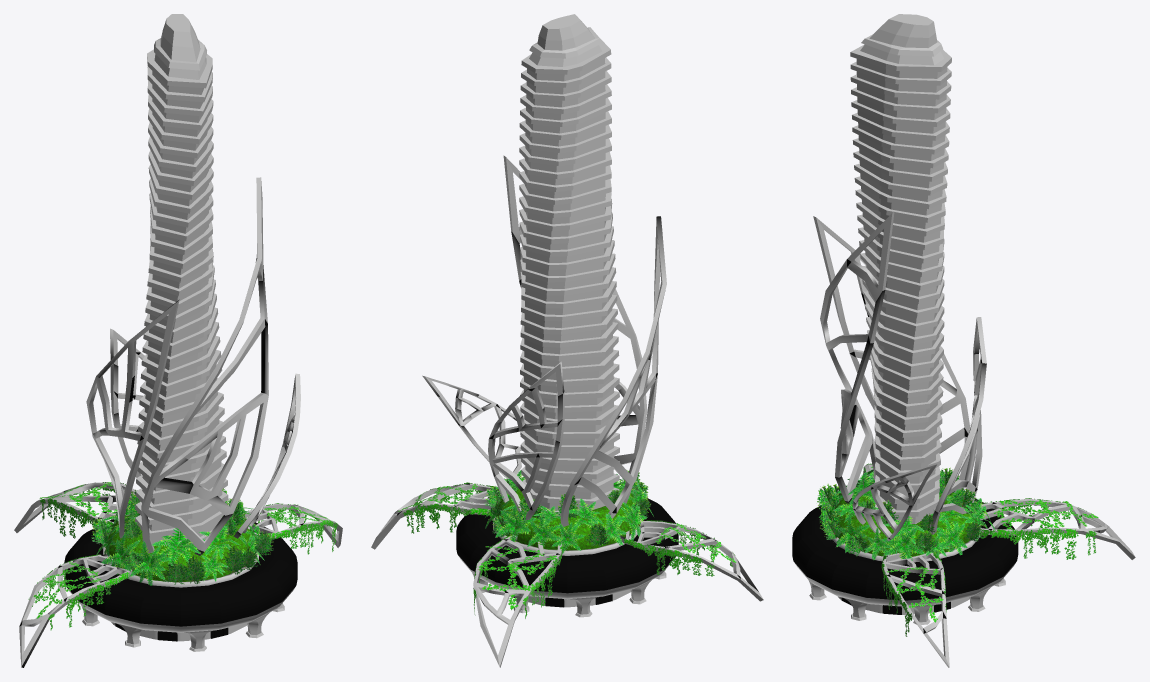
The model's file is SM_GlassTower.fbx.
The picture shows the model from 3 angles, left to right: view 1: azimuth 30°, elevation 25°; view 2: azimuth 150°, elevation 25°; view 3: azimuth 270°, elevation 25°; orthographic projection. The views are drawn at different scales.
Visible parts, largest first — view 1: GlassTower_Tower_LOD0, GlassTower_Leaves_LOD0, GlassTower_Dome_Hex_CutOut_LOD0, GlassTower_Ivy_LOD0, GlassTower_Fern_LOD0, GlassTower_Bush_LOD0, GlassTower_Base_Vegetation_LOD0, GlassTower_Dome_Base_LOD0, GlassTower_Columns_LOD0, GlassTower_Dome_Top_LOD0; view 2: GlassTower_Tower_LOD0, GlassTower_Leaves_LOD0, GlassTower_Dome_Hex_CutOut_LOD0, GlassTower_Ivy_LOD0, GlassTower_Fern_LOD0, GlassTower_Base_Vegetation_LOD0, GlassTower_Bush_LOD0, GlassTower_Dome_Base_LOD0, GlassTower_Columns_LOD0, GlassTower_Dome_Top_LOD0; view 3: GlassTower_Tower_LOD0, GlassTower_Leaves_LOD0, GlassTower_Dome_Hex_CutOut_LOD0, GlassTower_Fern_LOD0, GlassTower_Ivy_LOD0, GlassTower_Bush_LOD0, GlassTower_Base_Vegetation_LOD0, GlassTower_Columns_LOD0, GlassTower_Dome_Base_LOD0.
Boxes of the visible parts, box(x1,y1,x2,y2) form: GlassTower_Tower_LOD0: box(135, 14, 228, 544); GlassTower_Leaves_LOD0: box(14, 177, 342, 667); GlassTower_Dome_Hex_CutOut_LOD0: box(64, 519, 297, 626); GlassTower_Ivy_LOD0: box(28, 482, 337, 630); GlassTower_Fern_LOD0: box(96, 503, 264, 585); GlassTower_Bush_LOD0: box(91, 488, 274, 584); GlassTower_Base_Vegetation_LOD0: box(105, 515, 255, 582); GlassTower_Dome_Base_LOD0: box(67, 586, 295, 632); GlassTower_Columns_LOD0: box(81, 603, 284, 651); GlassTower_Dome_Top_LOD0: box(103, 543, 258, 587); GlassTower_Tower_LOD0: box(519, 14, 619, 515); GlassTower_Leaves_LOD0: box(371, 155, 763, 667); GlassTower_Dome_Hex_CutOut_LOD0: box(456, 497, 678, 593); GlassTower_Ivy_LOD0: box(397, 482, 736, 618); GlassTower_Fern_LOD0: box(485, 470, 653, 553); GlassTower_Base_Vegetation_LOD0: box(498, 486, 638, 550); GlassTower_Bush_LOD0: box(484, 470, 650, 546); GlassTower_Dome_Base_LOD0: box(458, 555, 675, 599); GlassTower_Columns_LOD0: box(472, 570, 666, 617); GlassTower_Dome_Top_LOD0: box(493, 517, 641, 555); GlassTower_Tower_LOD0: box(850, 14, 951, 525); GlassTower_Leaves_LOD0: box(813, 211, 1135, 667); GlassTower_Dome_Hex_CutOut_LOD0: box(792, 499, 1018, 600); GlassTower_Fern_LOD0: box(819, 469, 995, 560); GlassTower_Ivy_LOD0: box(863, 463, 1098, 636); GlassTower_Bush_LOD0: box(817, 467, 982, 556); GlassTower_Base_Vegetation_LOD0: box(834, 487, 977, 556); GlassTower_Columns_LOD0: box(808, 578, 1005, 624); GlassTower_Dome_Base_LOD0: box(794, 562, 1015, 606).
Size of what is drawn, in the model's own units: 86.71 by 132 by 72.83.
